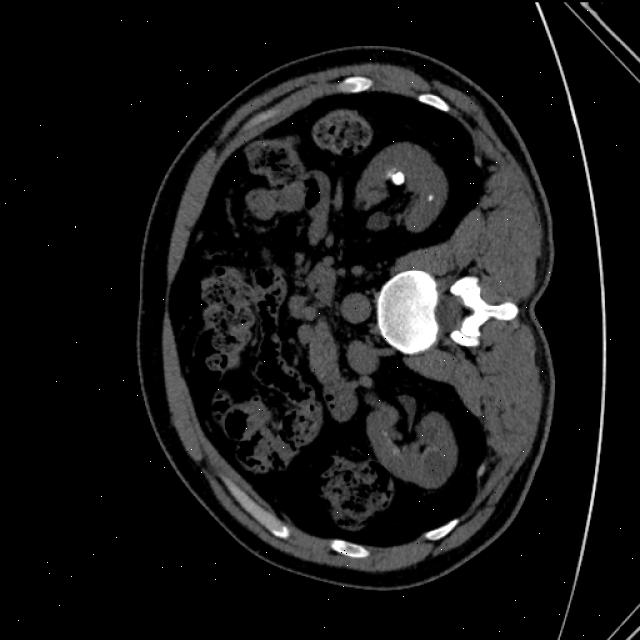kidneystone: (391, 171, 404, 184)
